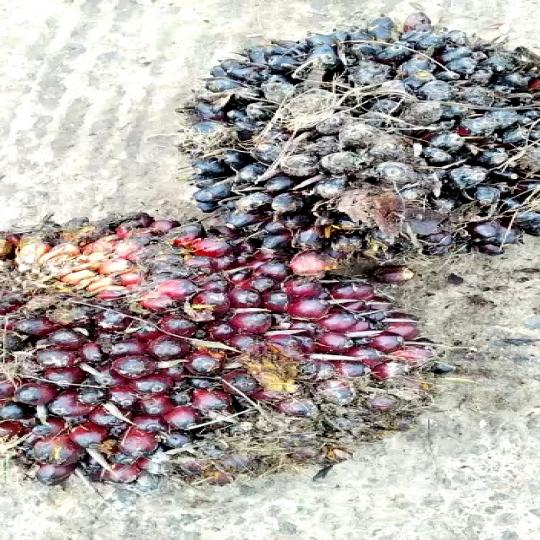kurang masak: (0, 204, 437, 502), (163, 17, 540, 258)
